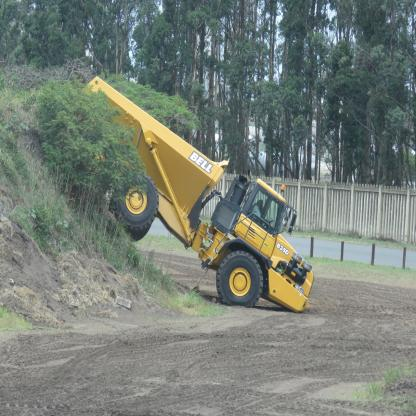dump_truck: (74, 51, 332, 328)
